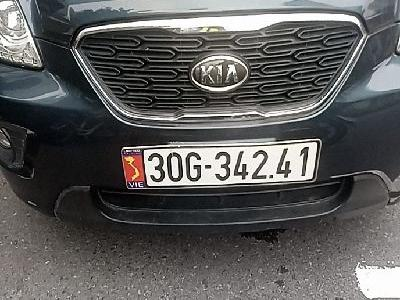number: (121, 142, 320, 188)
